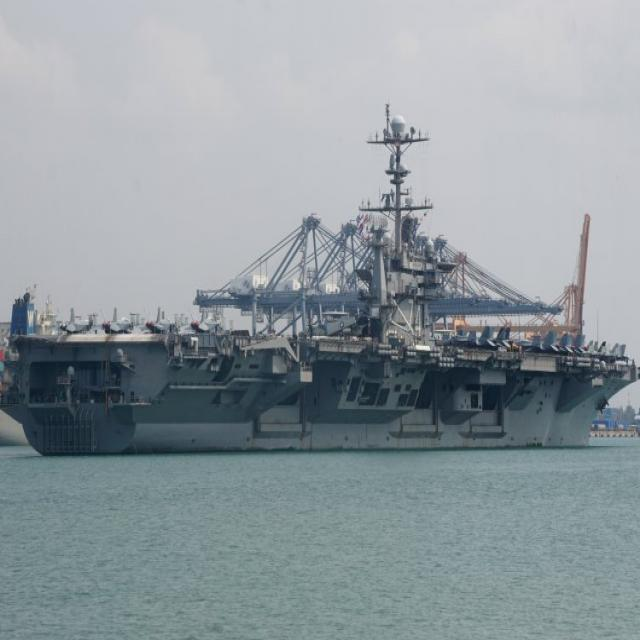Portanaves: (1, 104, 640, 456)
